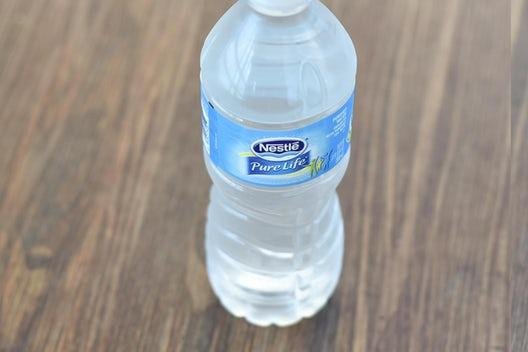bottle: (192, 0, 360, 335)
